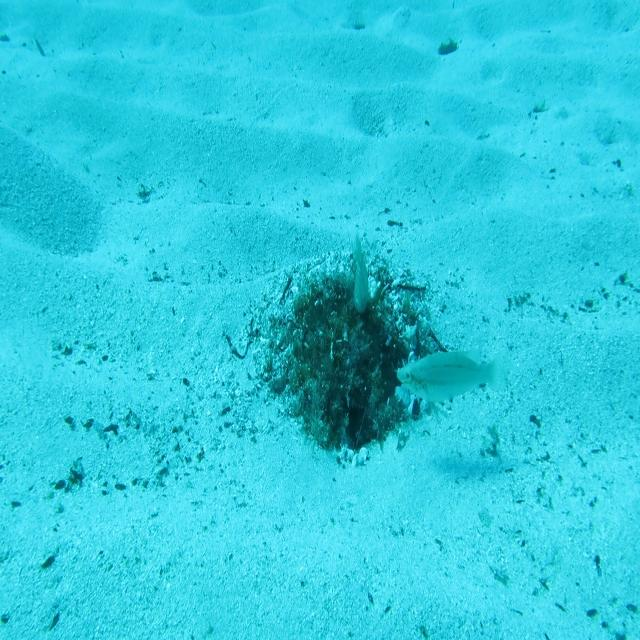NIP_CORE: (344, 230, 374, 314)
core_nest: (318, 303, 377, 354)
female: (396, 340, 512, 411)
nest: (240, 240, 462, 484)
vegetation: (437, 36, 458, 57)
